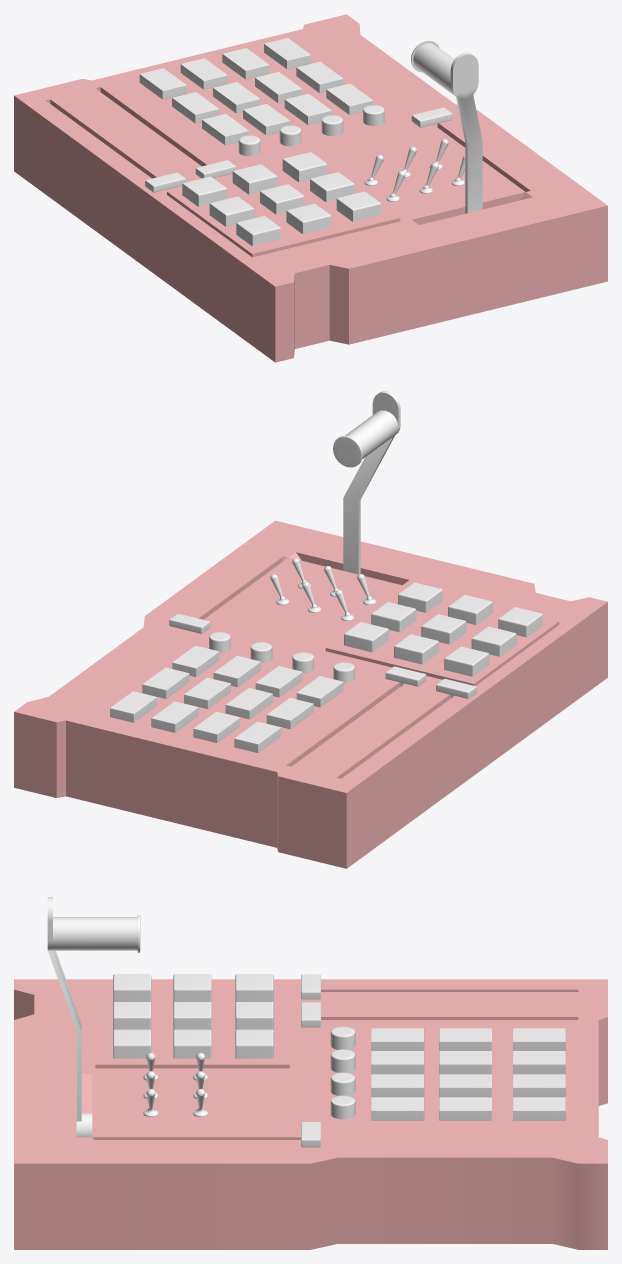
The model's file is BoiteDeBouton.fbx.
The picture shows the model from 3 angles, top to bottom: view 1: azimuth 30°, elevation 25°; view 2: azimuth 150°, elevation 25°; view 3: azimuth 270°, elevation 25°; orthographic projection. The views are drawn at different scales.
Visible parts, largest first — view 1: Boite, Deco, Levier1, BoutonCarre8, BoutonCarre7, BoutonCarre6, BoutonCarre1, BoutonCarre, Bouton2, Bouton3, Bouton1, BoutonCarre2 (+15 smaller); view 2: Boite, Deco, Levier1, BoutonCarre2, BoutonCarre1, BoutonCarre, BoutonCarre5, BoutonCarre4, BoutonCarre3, Bouton6, Bouton7, Bouton3 (+12 smaller); view 3: Boite, Deco, Levier1, Bouton10, Bouton9, Bouton8, Bouton6, Bouton2, Bouton5, Bouton4, Bouton1, Bouton (+19 smaller).
Part boxes in pixels (left/top/right/bottom): Boite: left=14, top=14, right=607, bottom=362; Deco: left=167, top=163, right=400, bottom=257; Levier1: left=411, top=40, right=482, bottom=213; BoutonCarre8: left=336, top=191, right=381, bottom=221; BoutonCarre7: left=286, top=203, right=331, bottom=233; BoutonCarre6: left=236, top=216, right=280, bottom=246; BoutonCarre1: left=232, top=164, right=277, bottom=194; BoutonCarre: left=282, top=152, right=327, bottom=182; Bouton2: left=180, top=58, right=227, bottom=89; Bouton3: left=139, top=68, right=186, bottom=99; Bouton1: left=222, top=48, right=269, bottom=79; BoutonCarre2: left=182, top=176, right=226, bottom=206; Boite: left=14, top=520, right=607, bottom=868; Deco: left=325, top=593, right=559, bottom=685; Levier1: left=333, top=391, right=400, bottom=574; BoutonCarre2: left=444, top=646, right=489, bottom=676; BoutonCarre1: left=394, top=634, right=438, bottom=664; BoutonCarre: left=344, top=622, right=388, bottom=652; BoutonCarre5: left=371, top=602, right=416, bottom=632; BoutonCarre4: left=421, top=614, right=466, bottom=644; BoutonCarre3: left=471, top=626, right=516, bottom=656; Bouton6: left=225, top=688, right=272, bottom=719; Bouton7: left=266, top=698, right=313, bottom=729; Bouton3: left=234, top=721, right=281, bottom=752; Boite: left=14, top=979, right=607, bottom=1249; Deco: left=95, top=982, right=289, bottom=1068; Levier1: left=47, top=897, right=140, bottom=1137; Bouton10: left=371, top=1051, right=424, bottom=1074; Bouton9: left=371, top=1074, right=424, bottom=1097; Bouton8: left=371, top=1097, right=424, bottom=1120; Bouton6: left=439, top=1051, right=491, bottom=1074; Bouton2: left=513, top=1051, right=565, bottom=1074; Bouton5: left=439, top=1074, right=491, bottom=1097; Bouton4: left=439, top=1097, right=491, bottom=1120; Bouton1: left=513, top=1074, right=565, bottom=1097; Bouton: left=513, top=1097, right=565, bottom=1120.
Bounding box in the file's own units: 6.65 × 4.72 × 9.05.
